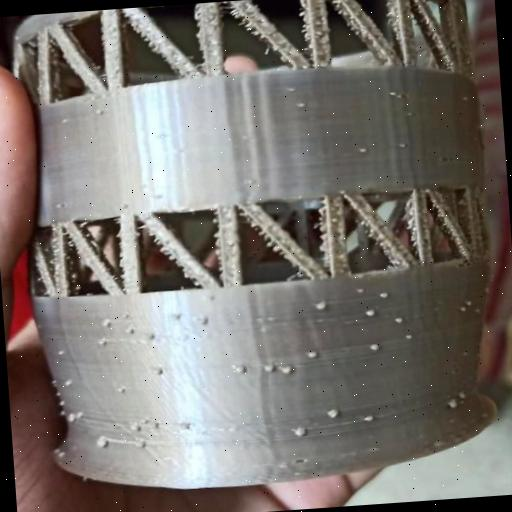blobs: (92, 431, 112, 451), (324, 406, 344, 424), (288, 424, 310, 440), (64, 409, 86, 425), (310, 299, 330, 316), (442, 396, 462, 412), (372, 289, 394, 303), (196, 312, 214, 329), (279, 363, 296, 380), (399, 328, 416, 344), (362, 411, 379, 427), (234, 362, 250, 379), (134, 433, 150, 450), (290, 96, 308, 110), (262, 361, 280, 375), (304, 349, 320, 364), (355, 142, 370, 157), (362, 308, 378, 322), (366, 340, 382, 354), (142, 330, 158, 344), (180, 420, 196, 434), (102, 318, 117, 332), (62, 378, 76, 391), (131, 424, 145, 436), (125, 328, 140, 338), (393, 315, 403, 328)
